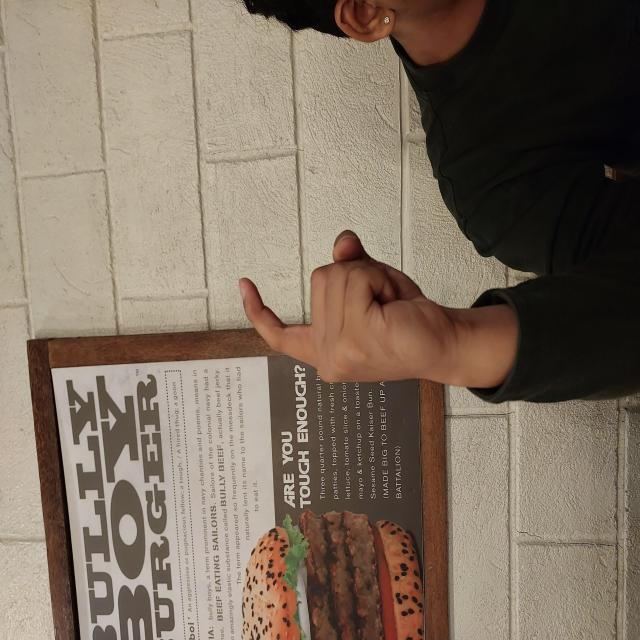X: (256, 236, 414, 457)
